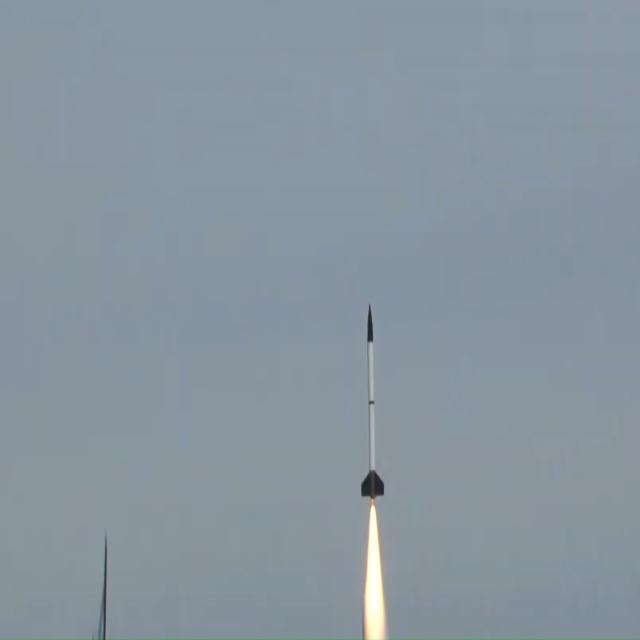Rocket: (360, 303, 386, 502)
